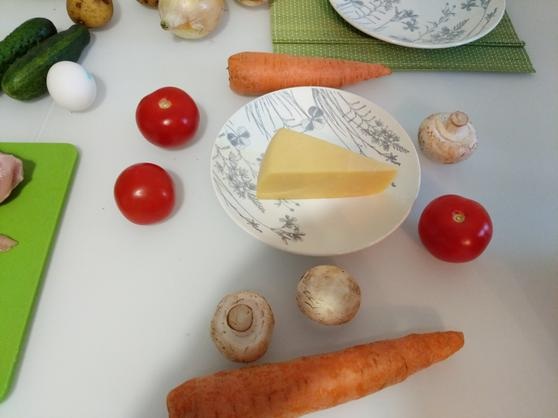carrot: (166, 330, 468, 417), (228, 47, 390, 97)
champignon: (210, 293, 277, 362), (295, 263, 361, 326), (417, 112, 482, 166)
cheese: (257, 127, 399, 202)
cucumber: (9, 26, 88, 100), (4, 18, 60, 72)
egg: (45, 62, 97, 111)
onion: (158, 1, 232, 43)
tomato: (418, 194, 493, 265), (115, 162, 178, 227), (136, 87, 199, 147)
